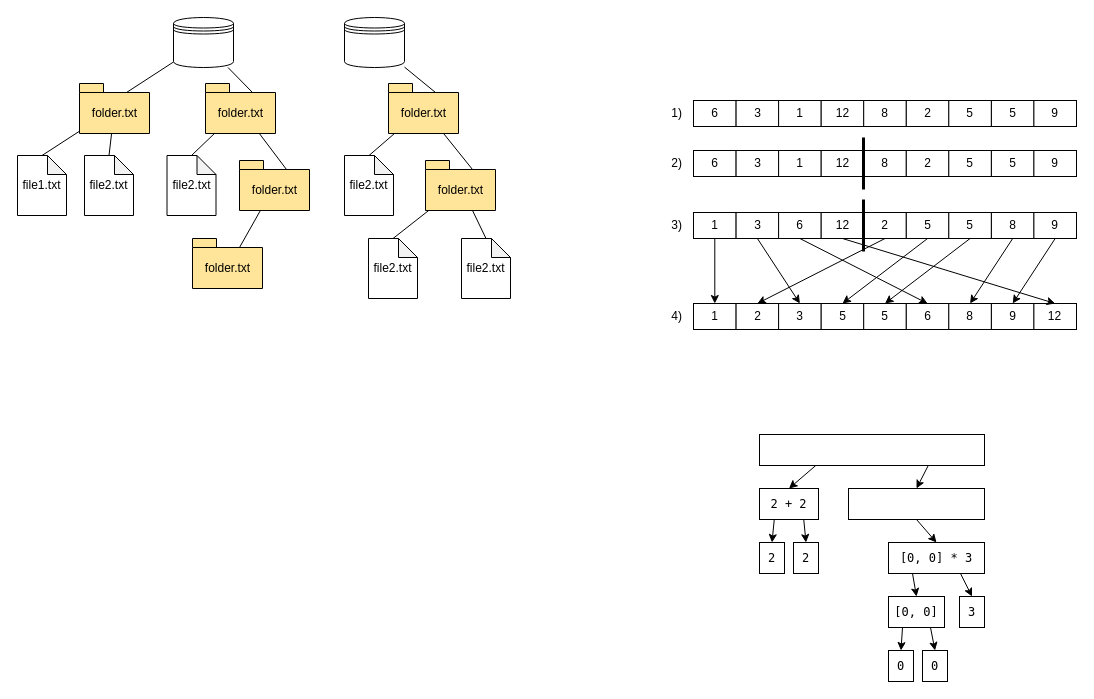
Image size: 1094x699. Some labels were removed from this diagram. Here are the shapes that lost their labels. From the top down, the box of each, then its label:
(172, 16, 234, 68): C:
(344, 16, 404, 68): E:
(758, 434, 984, 466): max(2 + 2, len([0, 0] * 3))
(848, 488, 984, 520): len([0, 0] * 3)
